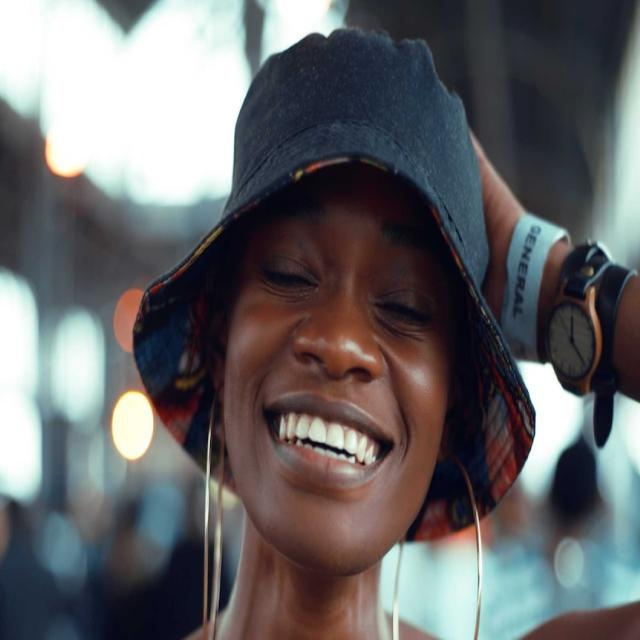hat: (129, 32, 536, 572)
